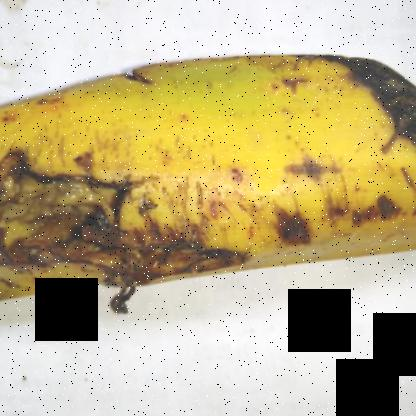rotten: (0, 143, 232, 328), (314, 33, 416, 219)
